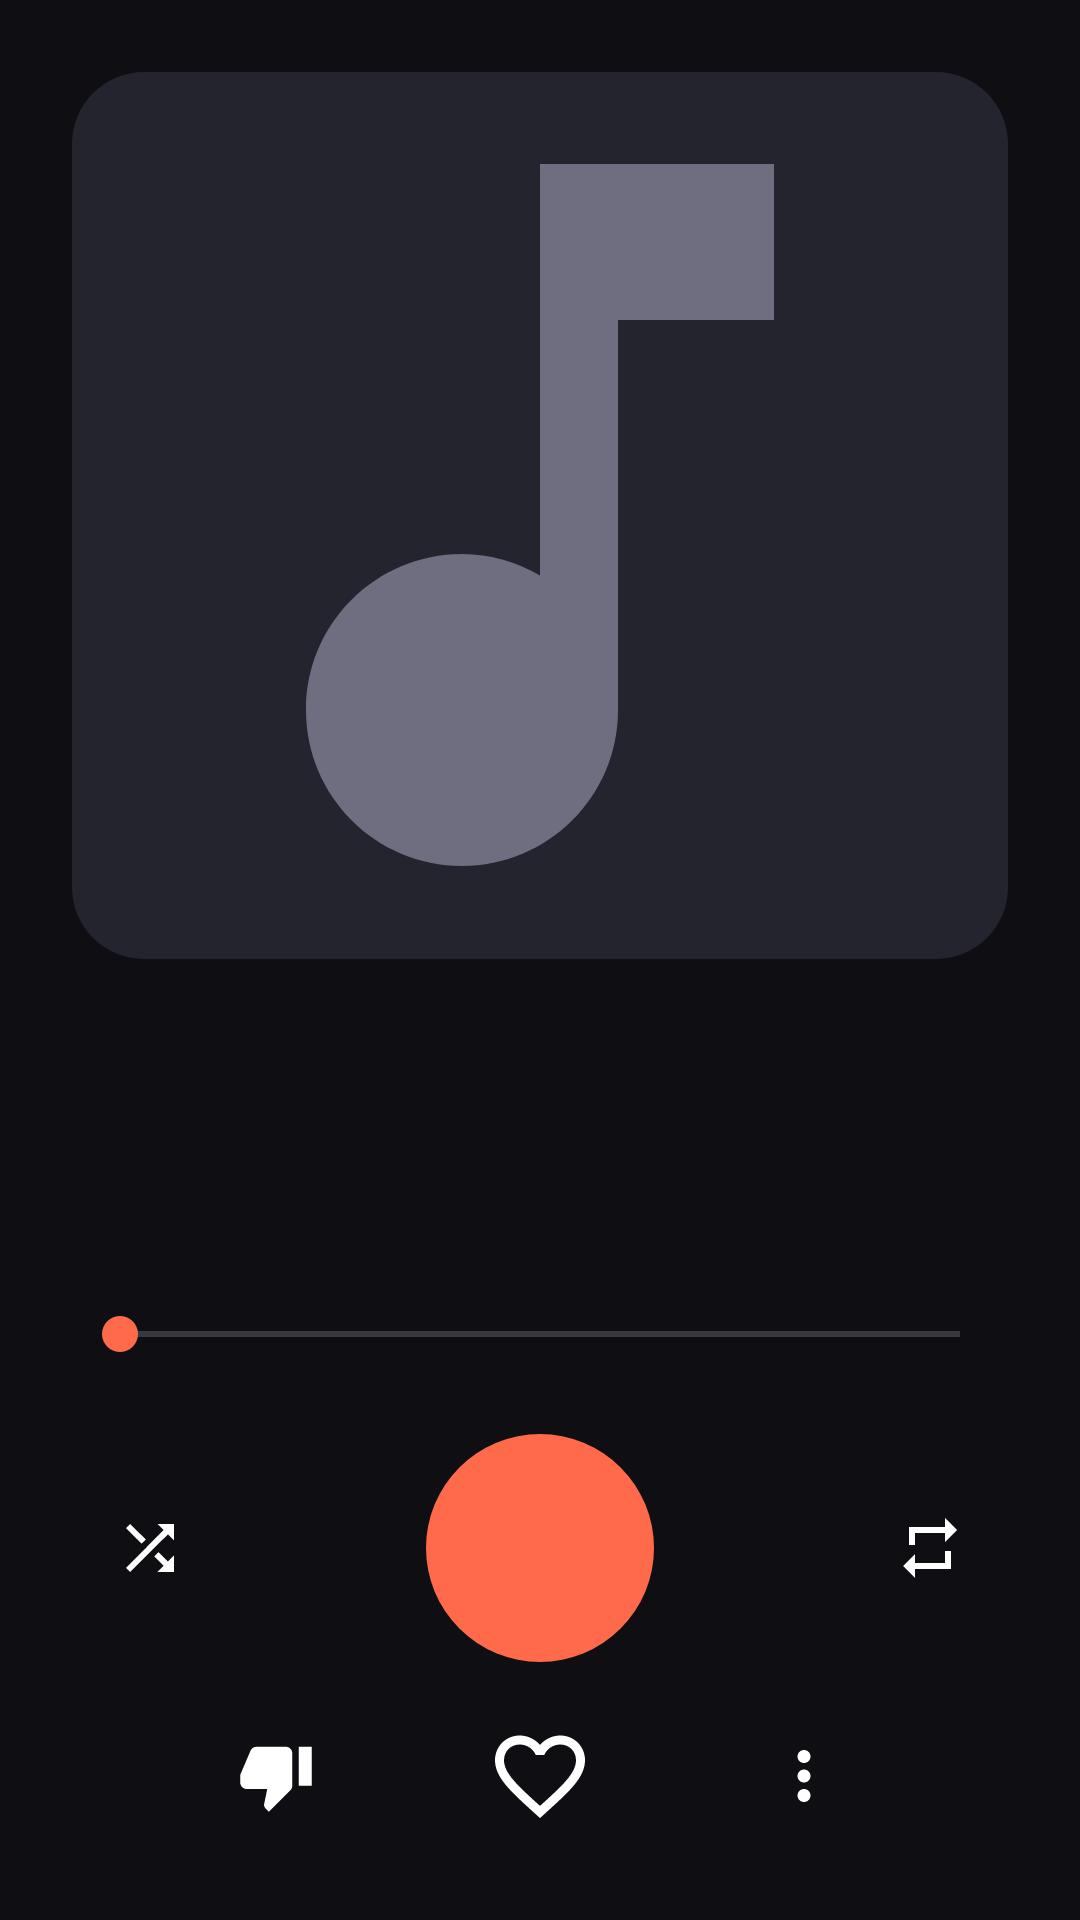

Icons on this 1080 x 1920 Android screen, each with the point to tap as (x=x, y=y):
Вперемешку: (x=150, y=1548)
Ещё: (x=804, y=1776)
Не нравится: (x=276, y=1779)
Нравится: (x=540, y=1776)
Повтор: (x=930, y=1548)
